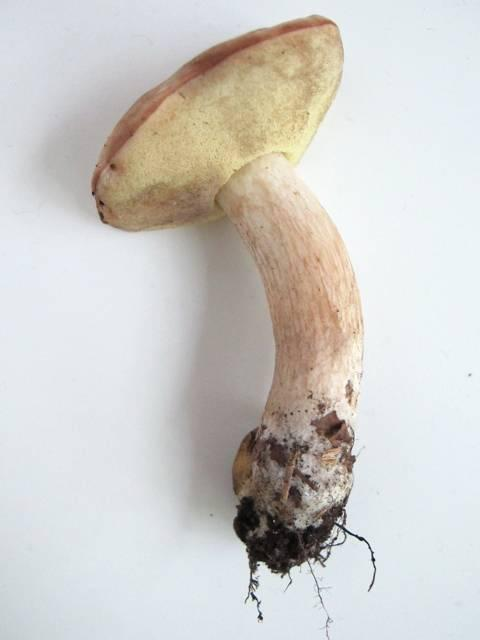edible_mushroom: (89, 13, 368, 589)
